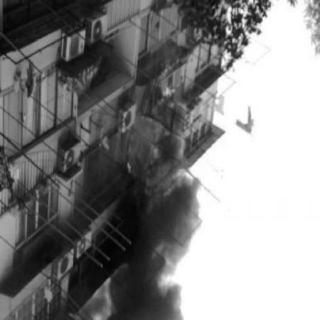Smoke: (77, 179, 207, 317)
